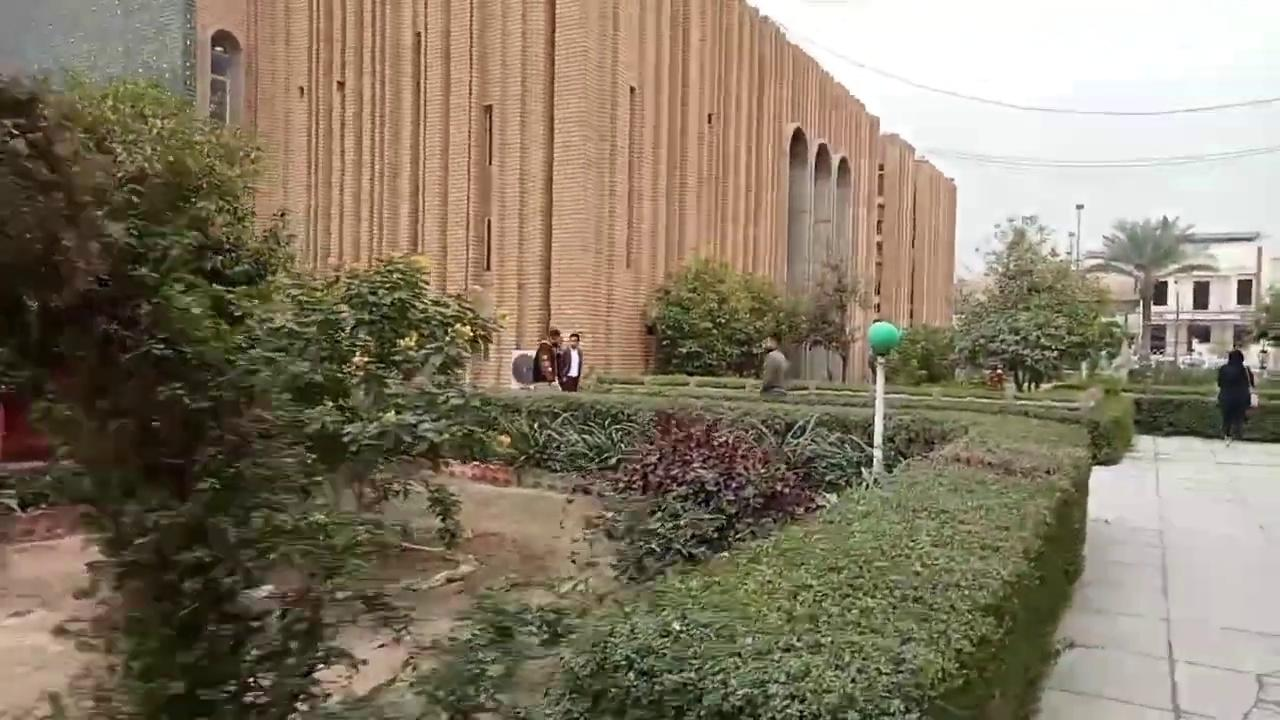person: (1215, 349, 1255, 445), (532, 327, 565, 387), (759, 334, 790, 394), (557, 332, 583, 391)
tree: (1, 64, 511, 716), (0, 66, 298, 511), (946, 217, 1121, 392), (321, 250, 506, 388), (1085, 213, 1218, 363), (641, 252, 790, 378), (790, 256, 868, 382), (890, 321, 953, 385), (1247, 281, 1279, 375)
